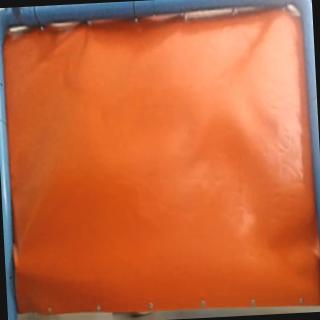Hit-hRxx: (12, 259, 26, 278)
